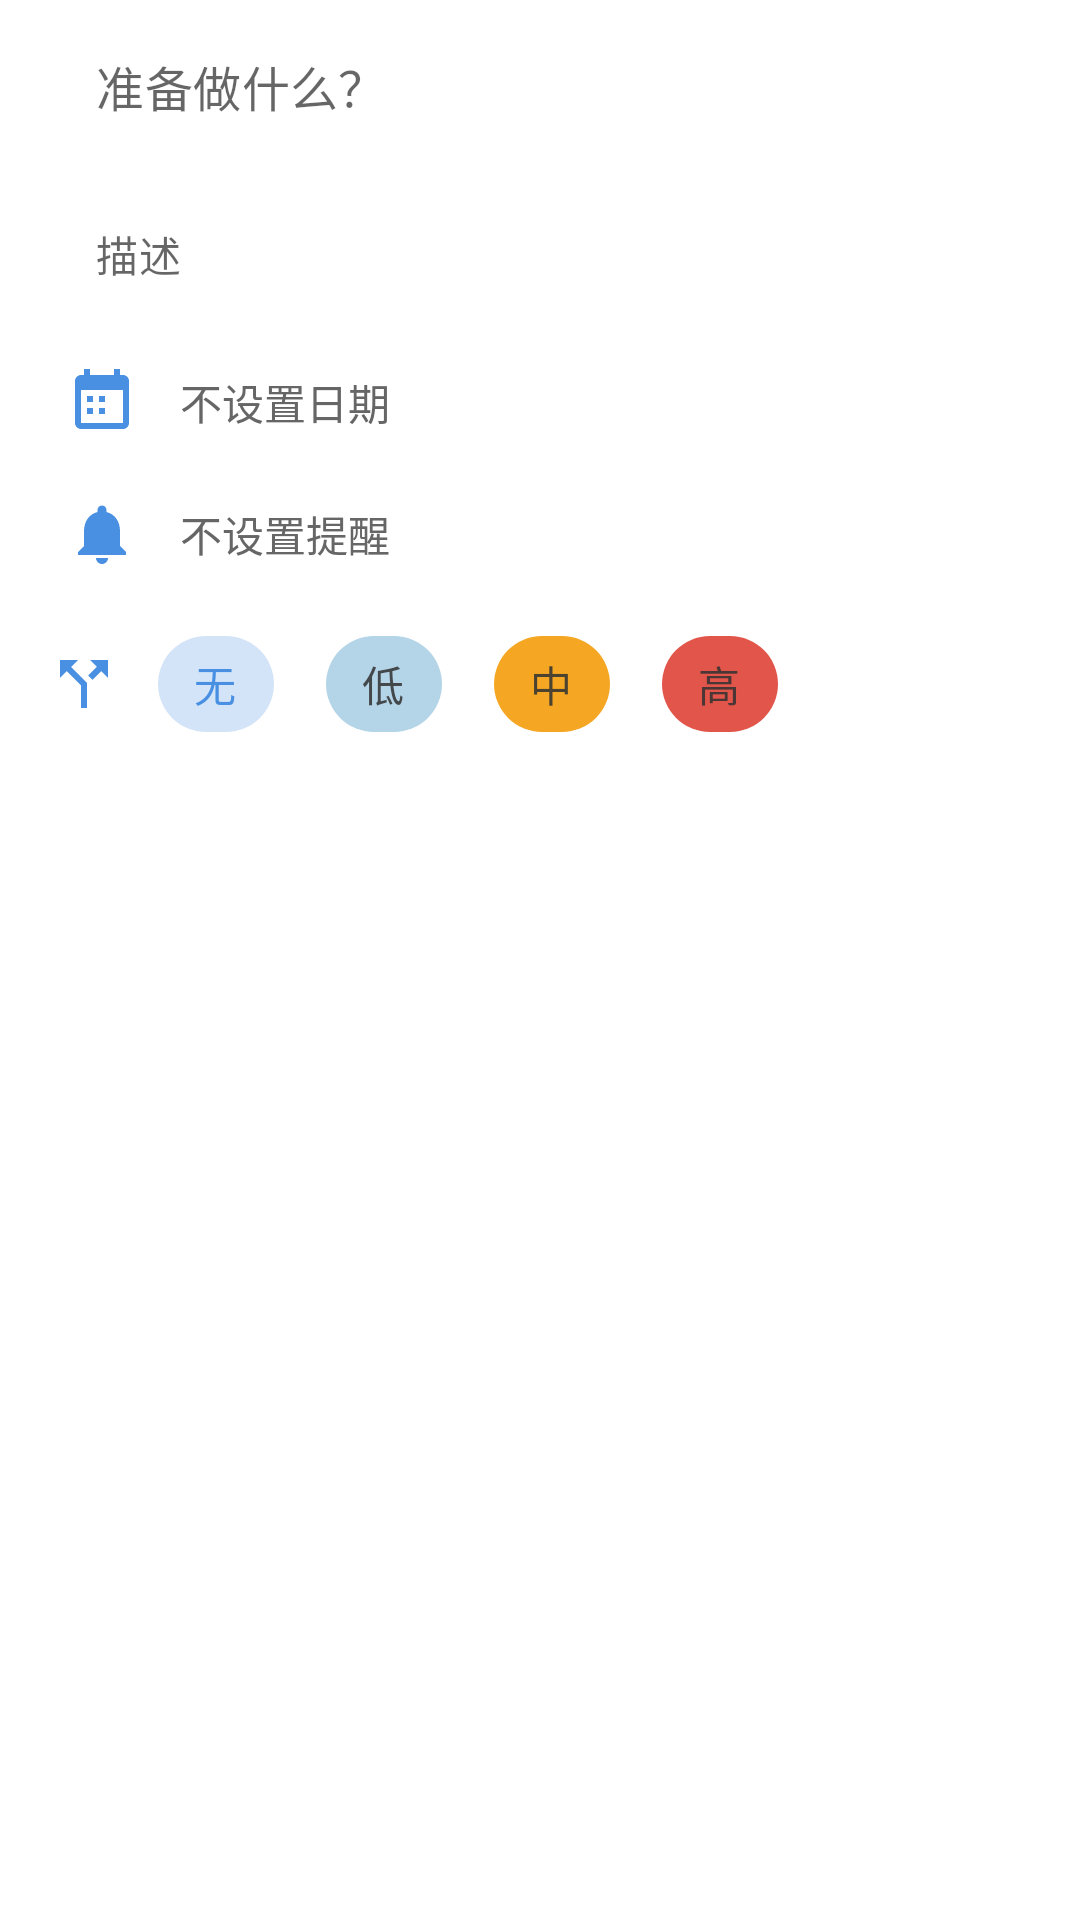

Where to tap for icons on this 1080px x 1920px app screen, as (x=x, y=y):
提醒时间: (x=102, y=534)
选择日期: (x=102, y=399)
